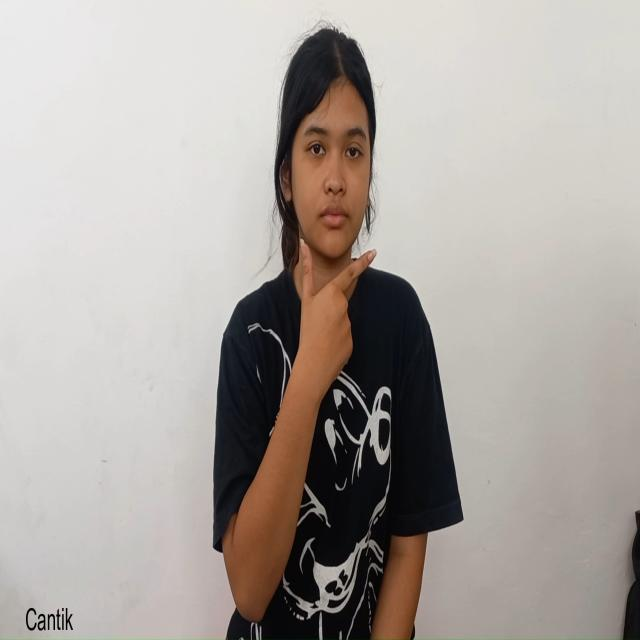Cantik -BISINDO-: (244, 21, 401, 402)
